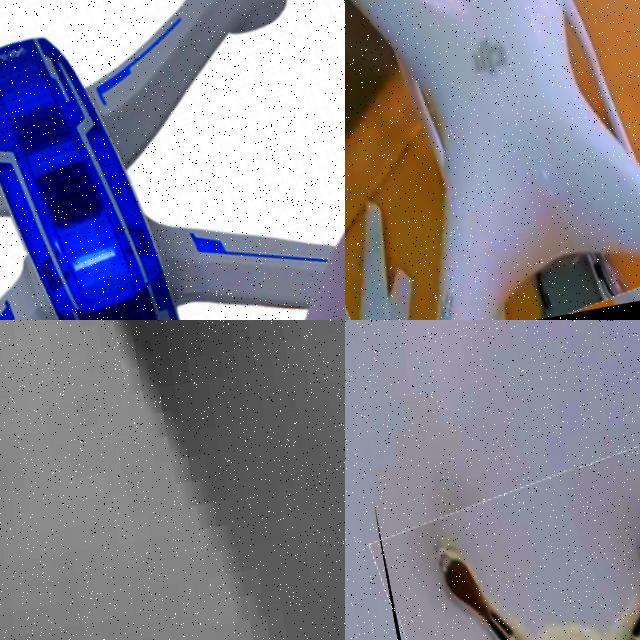drone: (0, 0, 345, 320), (345, 0, 640, 320), (373, 449, 640, 640)
